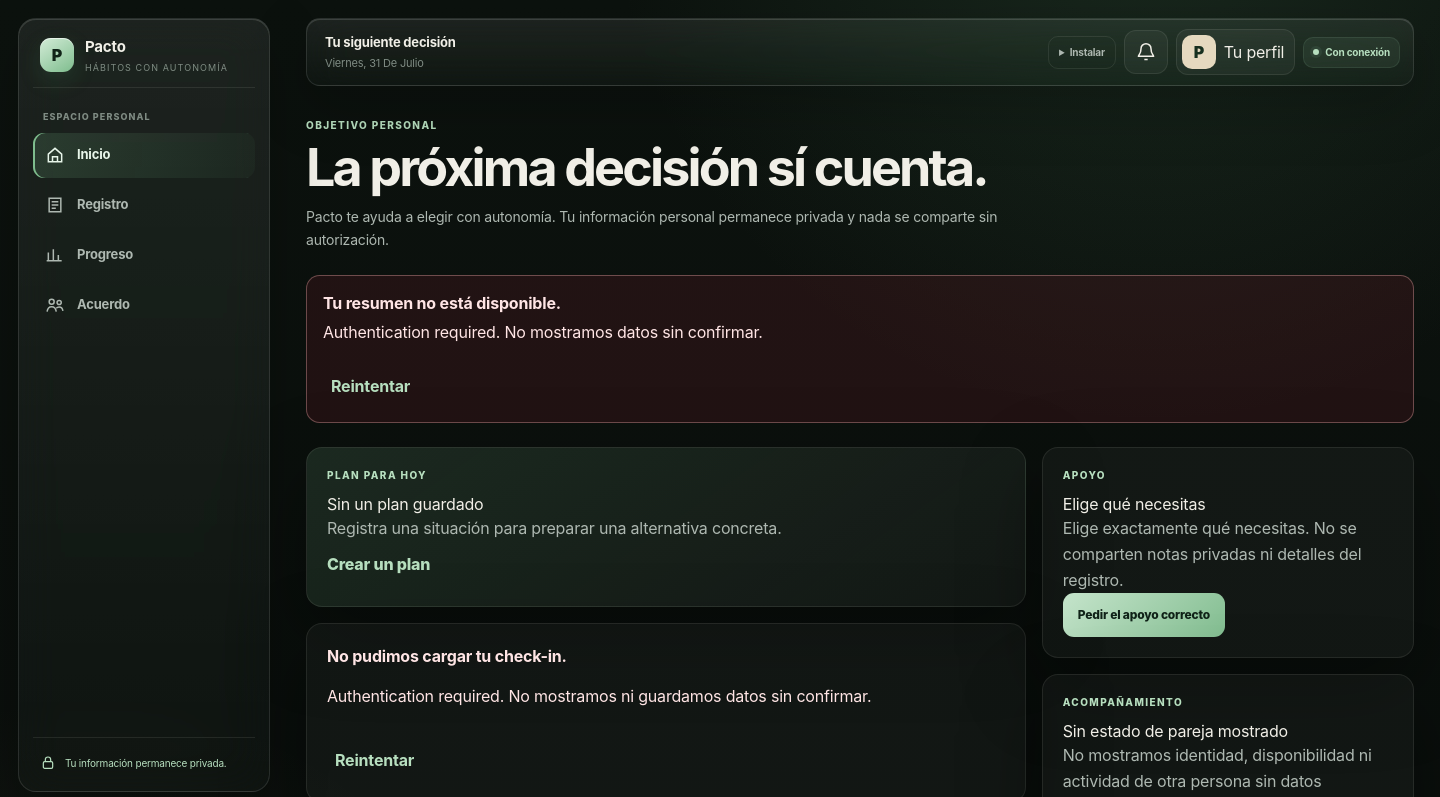
Test case: canonical parity shell › keeps four routes and one active item in each navigation
Expected: the link "Inicio" is shown, 33,132 -> 255,178
What coordinates should you click on to do the following:
click the link "Progreso"
I would click on:
 (89, 255)
Its box is 45,245 -> 133,265.
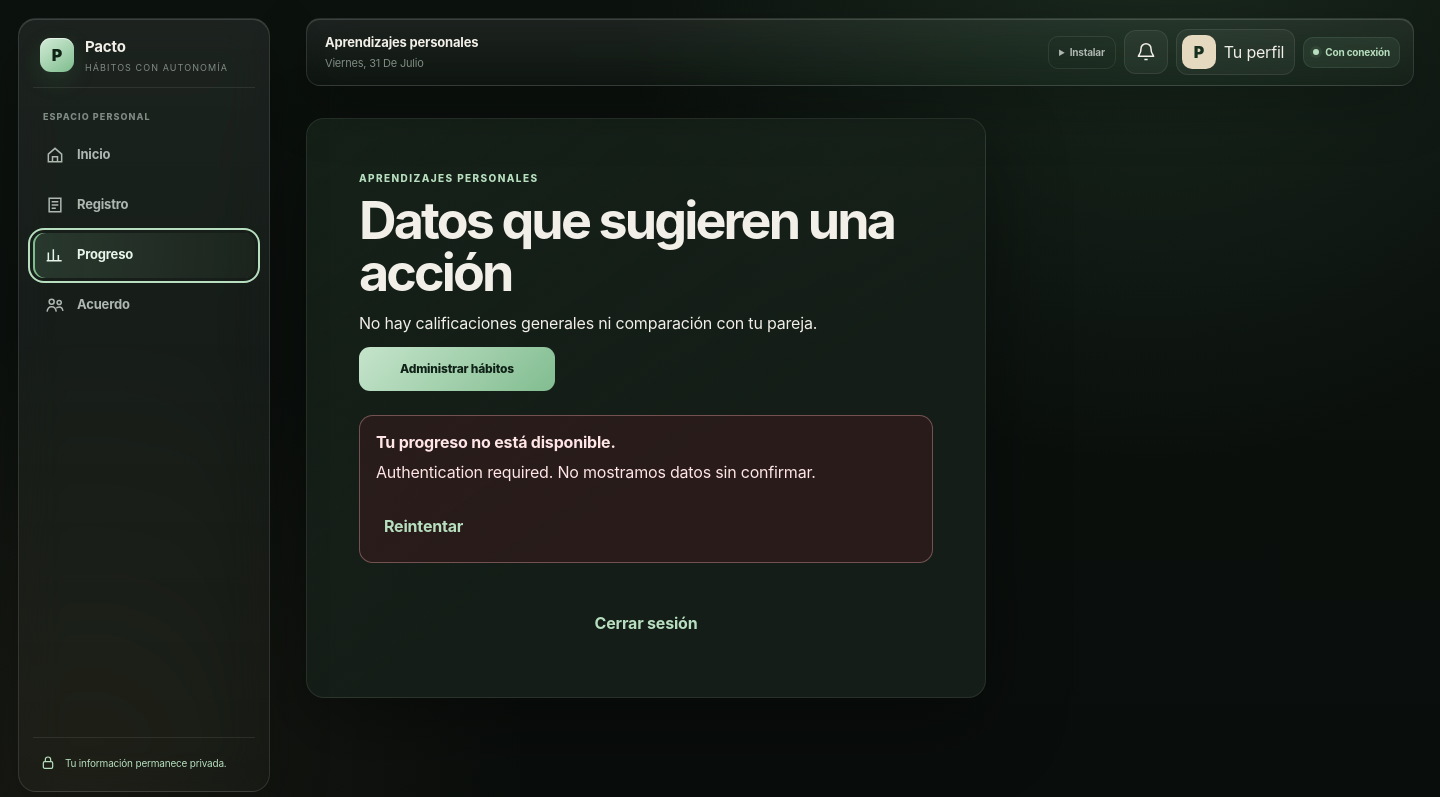
Expected: the link "Progreso" is shown, 33,232 -> 255,278
Expected: the heading "Datos que sugieren una acción" is shown, 359,195 -> 933,299
Expected: the text "Aprendizajes personales" in the row of "Instalar" is shown, 325,34 -> 478,50
